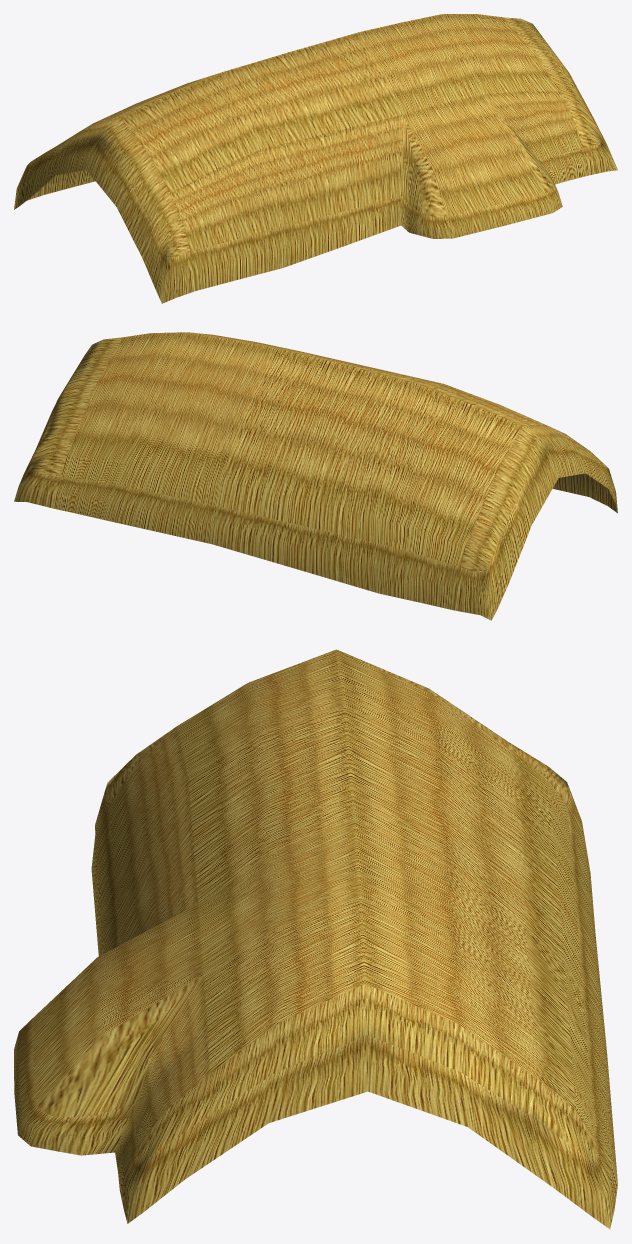
File: HTOWN01_GREENDRAGROOF.obj
3 views of the same model, one above another, from view 1: azimuth 30°, elevation 25°; view 2: azimuth 150°, elevation 25°; view 3: azimuth 270°, elevation 25° (orthographic). The views are drawn at different scales.
Parts seen in each view (by area): view 1: GreenDragRoof; view 2: GreenDragRoof; view 3: GreenDragRoof.
Part boxes in pixels (x1=…): GreenDragRoof: x1=14, y1=14, x2=617, y2=303; GreenDragRoof: x1=14, y1=332, x2=617, y2=620; GreenDragRoof: x1=14, y1=649, x2=617, y2=1229.
Bounding box in the file's own units: 988 × 310 × 622.
